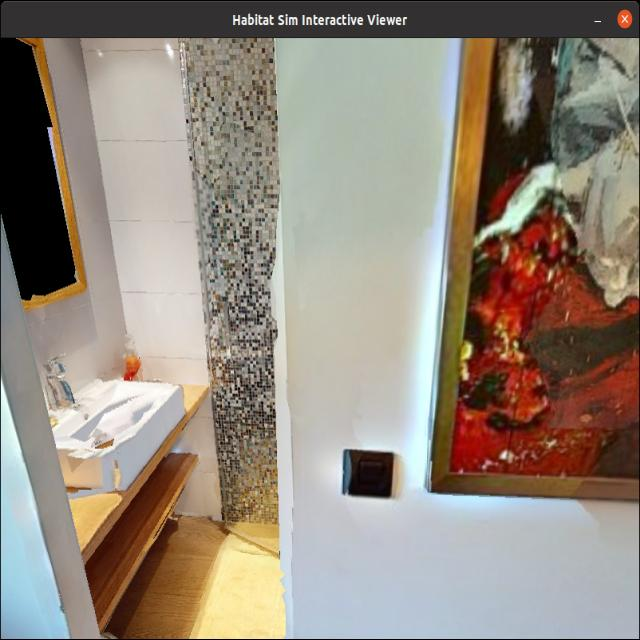door-frame: (0, 36, 302, 639)
sink: (12, 347, 174, 488)
